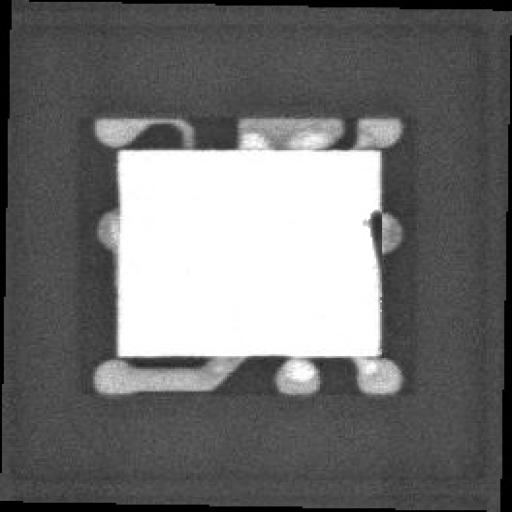DIE_BROKEN: (363, 204, 382, 267)
